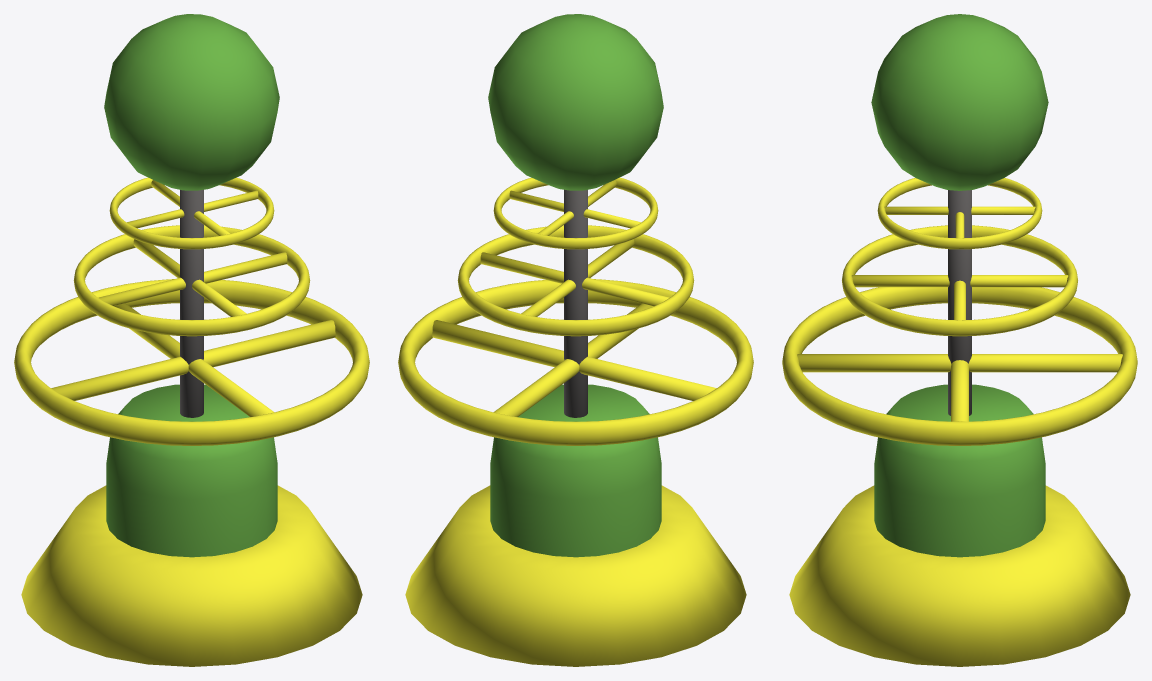
File: Obstacle 29 V2.fbx
3 views of the same model, side by side, from view 1: azimuth 30°, elevation 25°; view 2: azimuth 150°, elevation 25°; view 3: azimuth 270°, elevation 25° (orthographic).
Parts seen in each view (by area): view 1: 029 Part 1; view 2: 029 Part 1; view 3: 029 Part 1.
Part boxes in pixels (x1,y1,x2,y2): 029 Part 1: (14,14,369,666); 029 Part 1: (398,14,753,666); 029 Part 1: (782,14,1137,666).
Size of the model in its own units: 66.38 by 118 by 66.38.
1 material, 1 textured.
